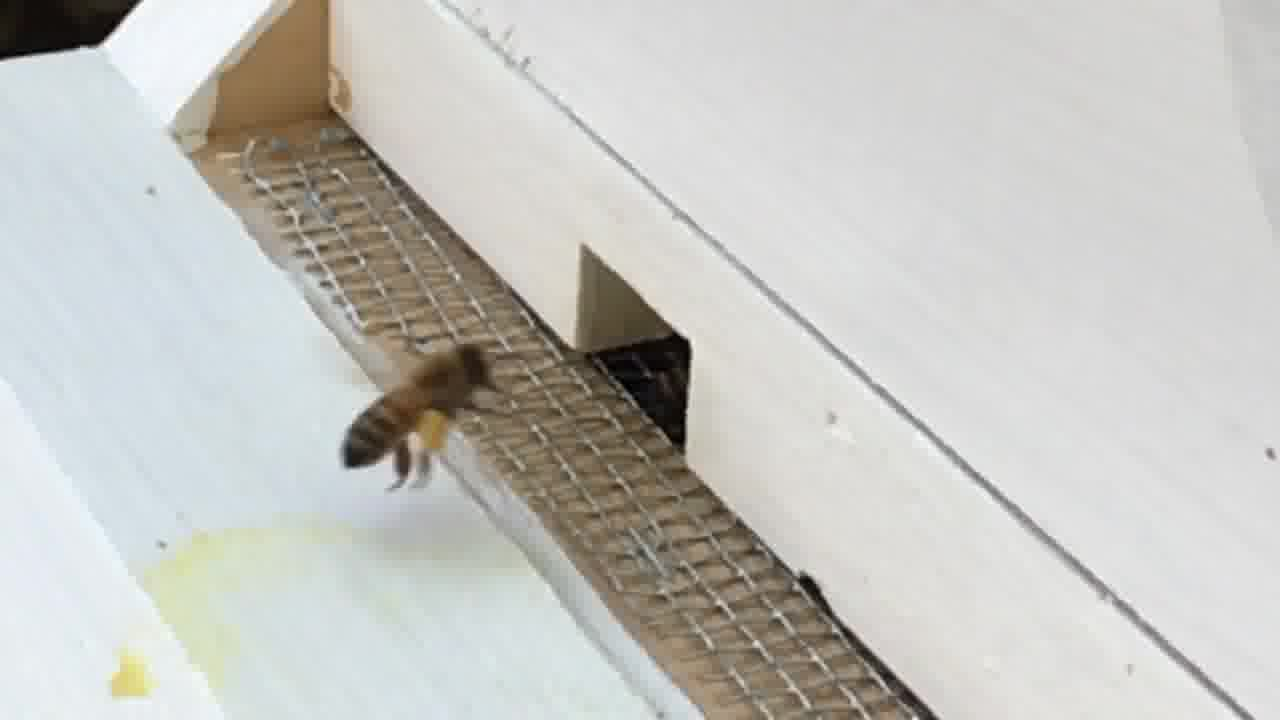pollen: (343, 336, 497, 493)
